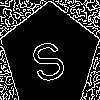S: (25, 30, 69, 85)
